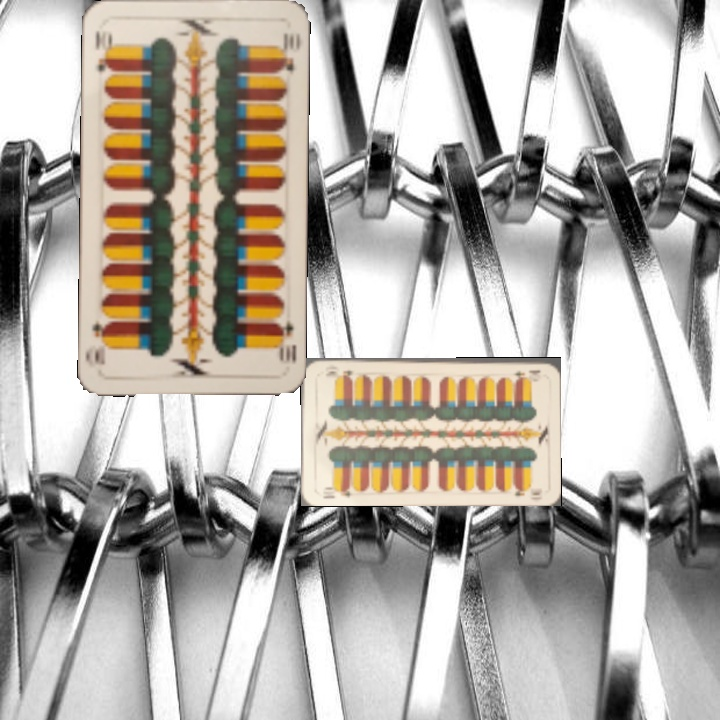E10: (271, 317, 298, 364), (91, 27, 115, 74), (319, 482, 353, 501), (509, 366, 542, 380)
